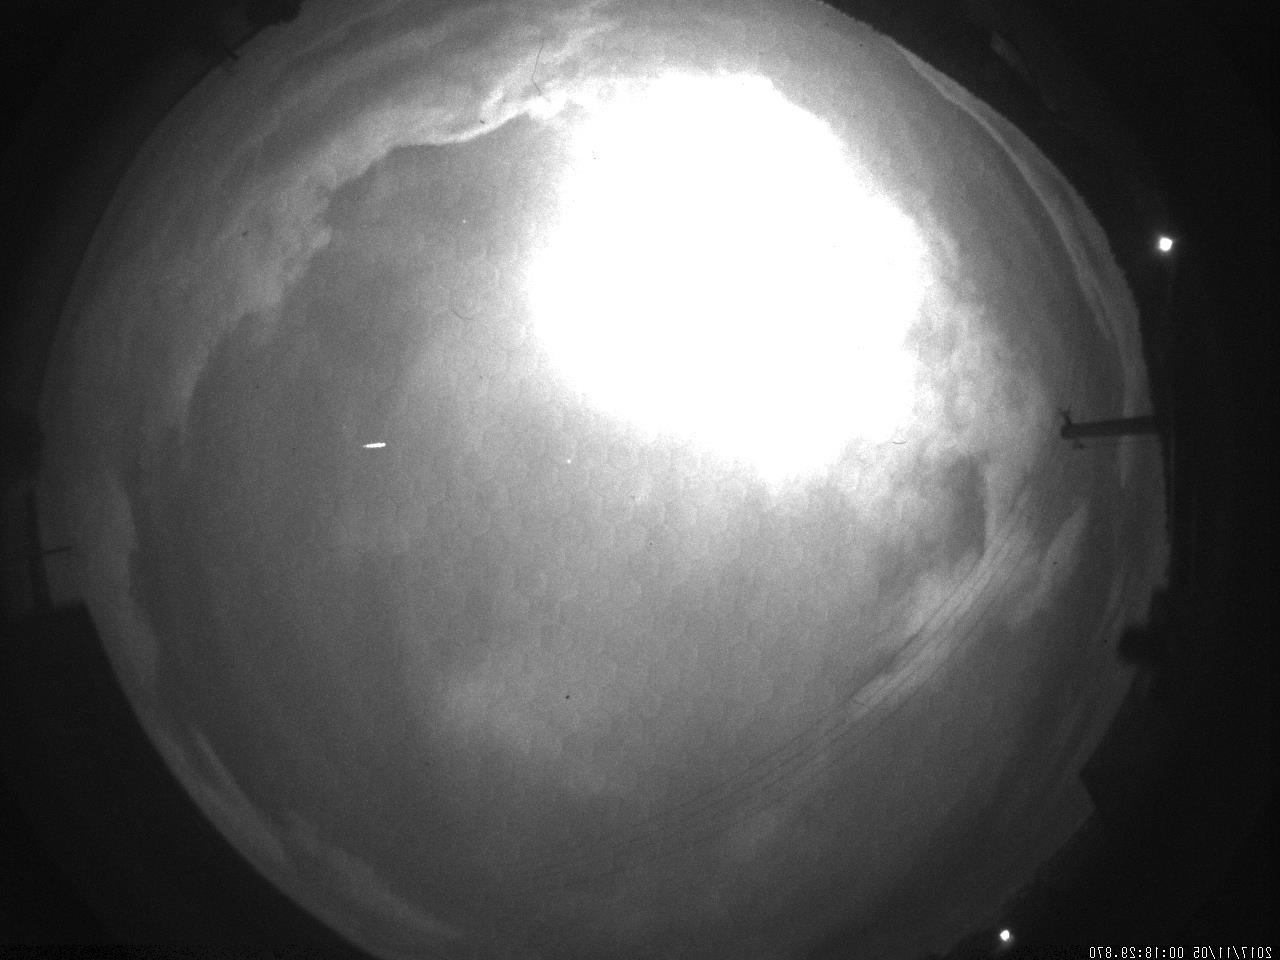meteor: (352, 430, 399, 459)
